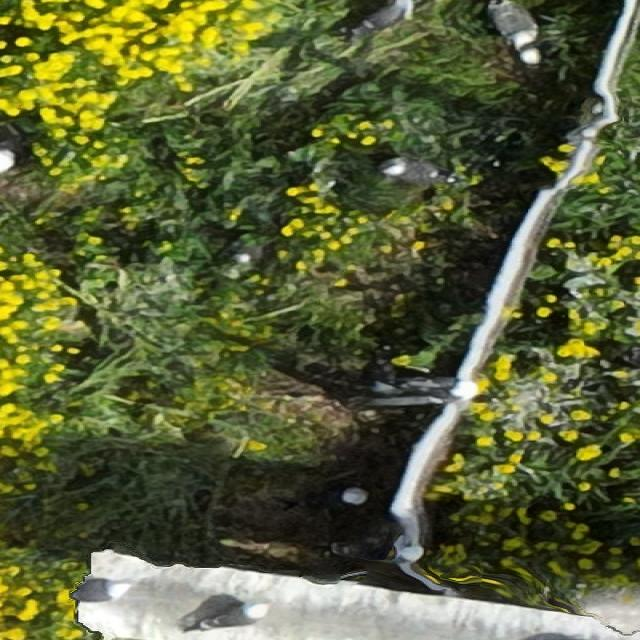umineko: (493, 3, 544, 64), (190, 600, 270, 632), (397, 380, 480, 404), (61, 578, 132, 604), (315, 485, 368, 515), (360, 5, 406, 30), (387, 160, 439, 181)
